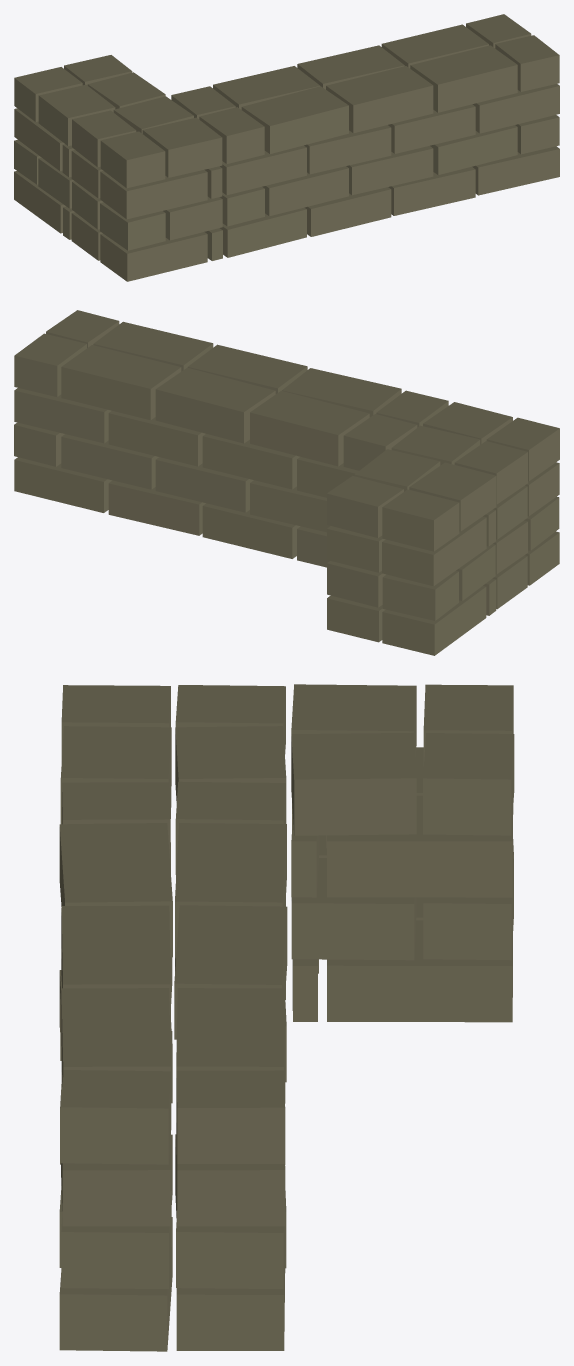
The model's file is SM_SacosRemate_v0_Recto_e0_Sano_LOD0.fbx.
The picture shows the model from 3 angles, top to bottom: view 1: azimuth 30°, elevation 25°; view 2: azimuth 150°, elevation 25°; view 3: azimuth 270°, elevation 25°; orthographic projection. The views are drawn at different scales.
Parts seen in each view (by area): view 1: SM_sacos_piezas_v20_LOD0; view 2: SM_sacos_piezas_v20_LOD0; view 3: SM_sacos_piezas_v20_LOD0.
Boxes of the visible parts, x1,y1,x2,y2 form: SM_sacos_piezas_v20_LOD0: (14, 14, 559, 281); SM_sacos_piezas_v20_LOD0: (14, 310, 559, 655); SM_sacos_piezas_v20_LOD0: (59, 684, 514, 1351).
Size of the model in its own units: 4.38 by 1.17 by 1.98.
